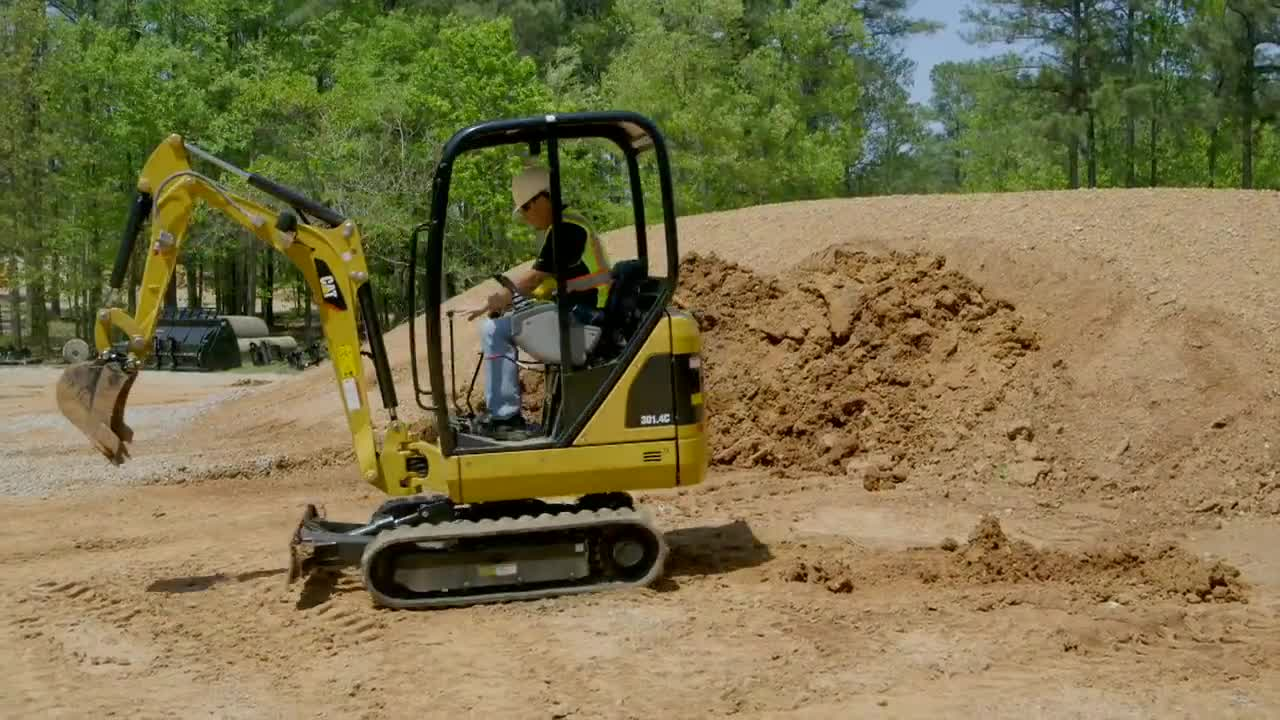attachment-bucket: (51, 345, 148, 471)
cabin: (400, 113, 716, 491)
forearm: (113, 135, 192, 358)
upperarm: (176, 160, 393, 487)
wheelbase: (347, 491, 673, 614)
